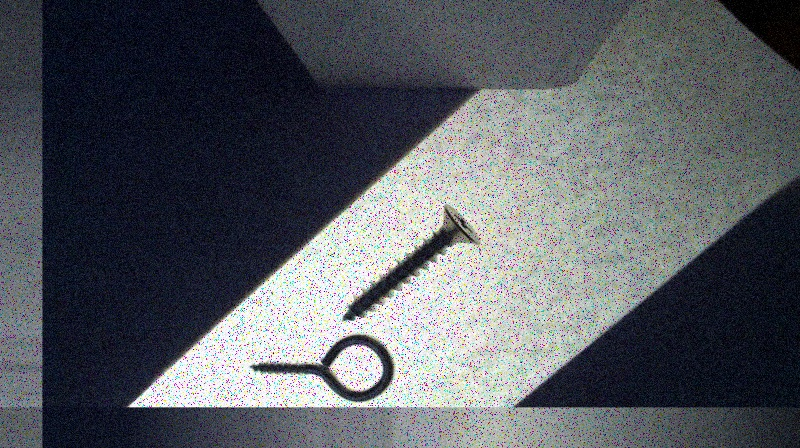O001: (248, 334, 396, 402)
S001: (339, 201, 483, 324)
